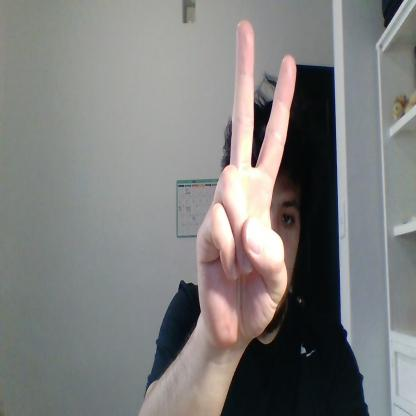V: (196, 19, 297, 346)
